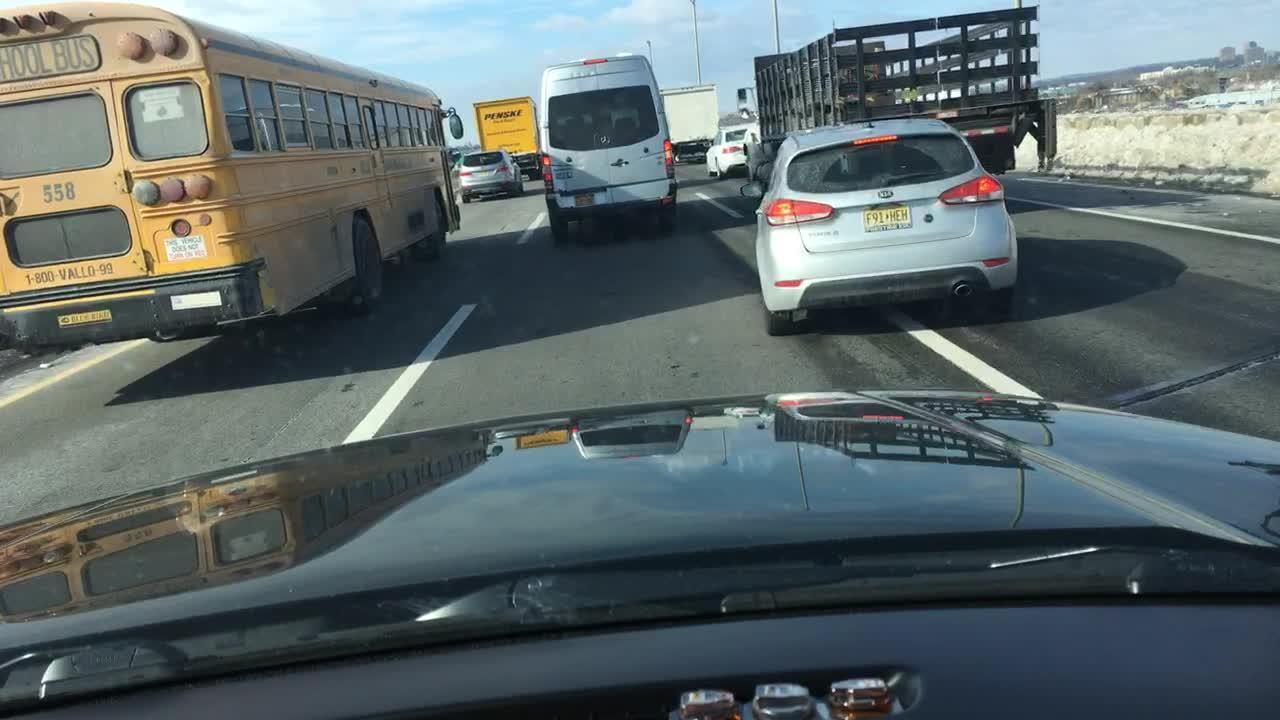Mercedes: (597, 131, 616, 148)
kia: (875, 187, 897, 202)
